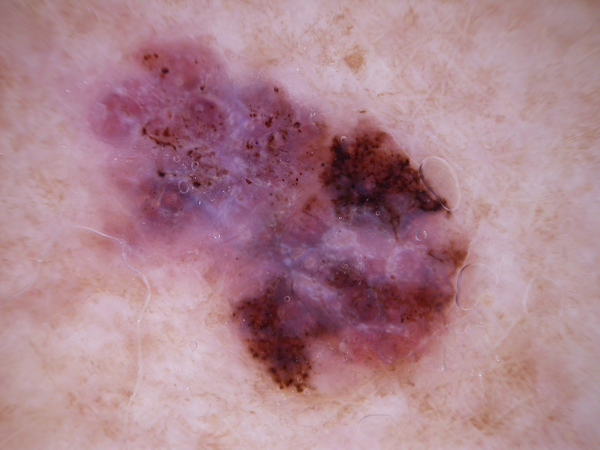Detected Lesion: (81, 39, 474, 395)
